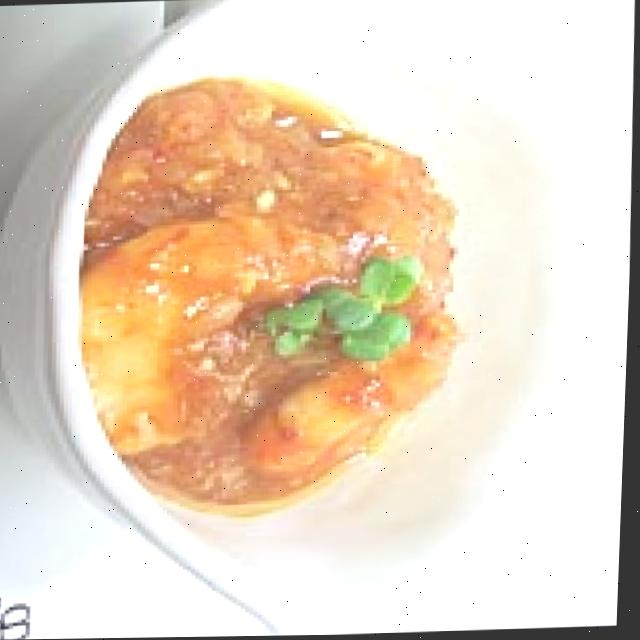熟制海鲜: (43, 0, 612, 639)
